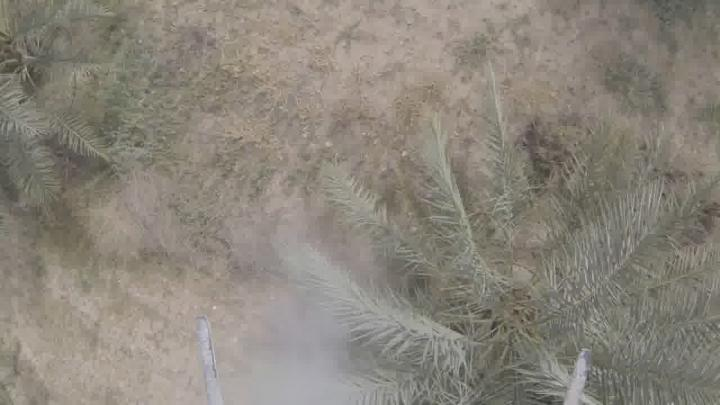Date-Palm-Crown: (380, 179, 650, 405), (0, 0, 84, 140)
